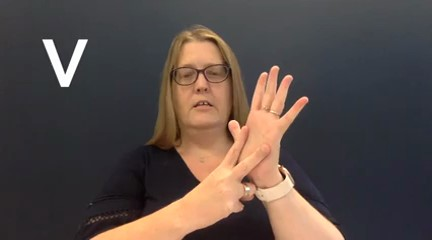V: (185, 63, 312, 234)
